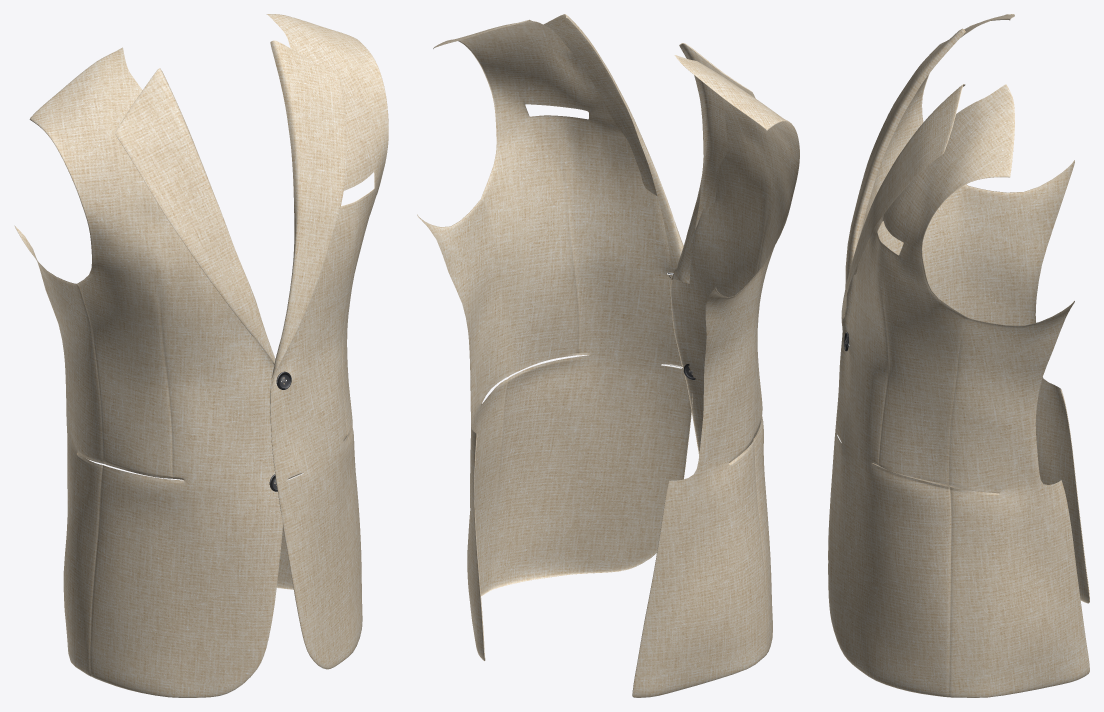
Rendered from doublebuttonnoch.glb.
The picture shows the model from 3 angles, left to right: view 1: azimuth 30°, elevation 25°; view 2: azimuth 150°, elevation 25°; view 3: azimuth 270°, elevation 25°; orthographic projection. The views are drawn at different scales.
Parts seen in each view (by area): view 1: Notch_Double_Button; view 2: Notch_Double_Button; view 3: Notch_Double_Button.
Boxes of the visible parts, left/top/right/bottom form: Notch_Double_Button: left=14, top=14, right=388, bottom=697; Notch_Double_Button: left=417, top=14, right=799, bottom=697; Notch_Double_Button: left=828, top=14, right=1089, bottom=697.
Size of the model in its own units: 0.0585 by 0.1024 by 0.0411.
4 materials, 3 textured.
